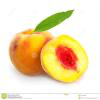Peach leaf: (32, 9, 75, 35)
